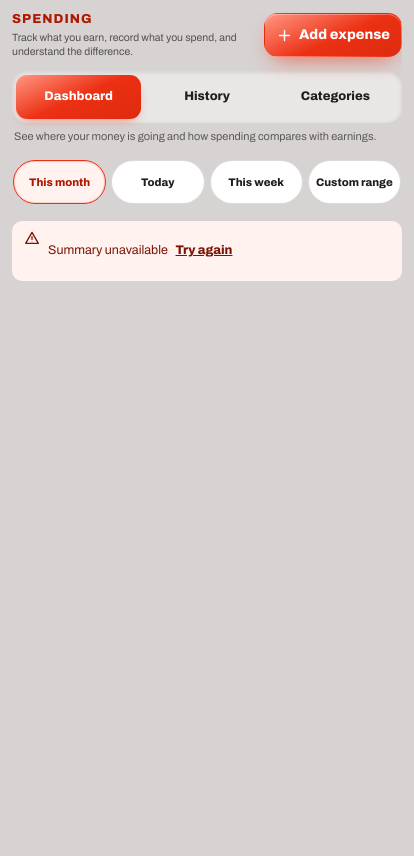
Test: SpendingScreen › shows an actionable error and retries without losing the selected period
Expected: the text "Summary unavailable Try again" is shown, [48, 243, 238, 257]
Click the button "Try again". click: [204, 251]
box: [170, 229, 238, 273]
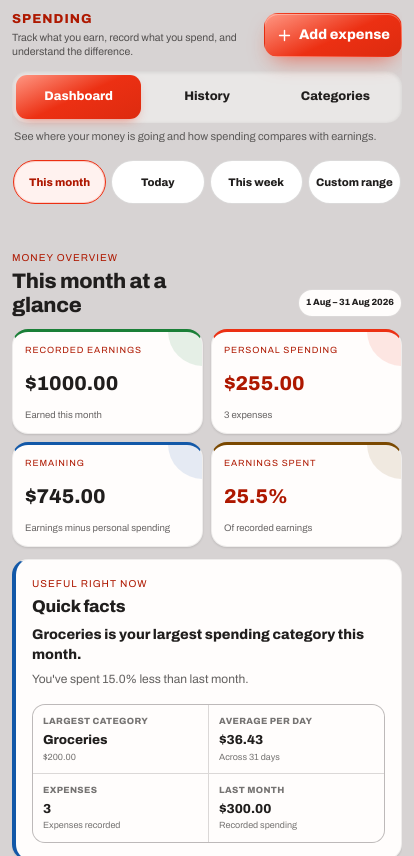
Expected: the radio button labelled "This month" is checked, [13, 160, 106, 204]
Expected: the text "$1000.00" is shown, [25, 372, 118, 394]
